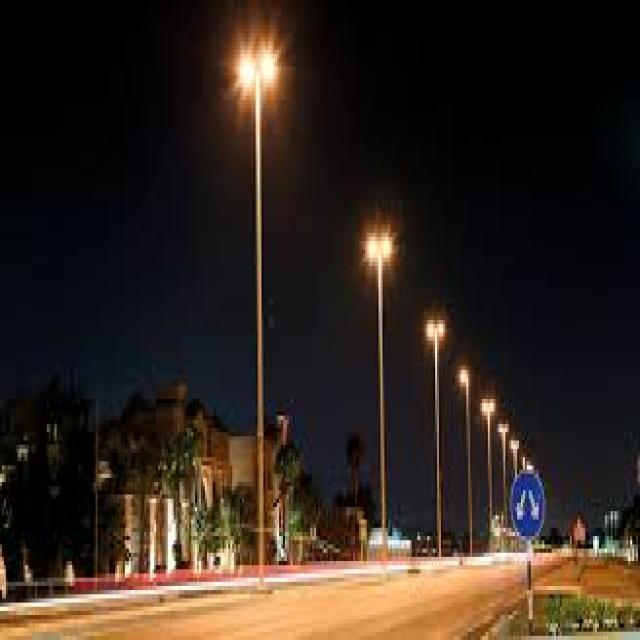Street Light: (236, 46, 277, 574), (365, 229, 394, 565), (423, 316, 443, 557), (455, 366, 472, 548), (480, 395, 496, 557)
